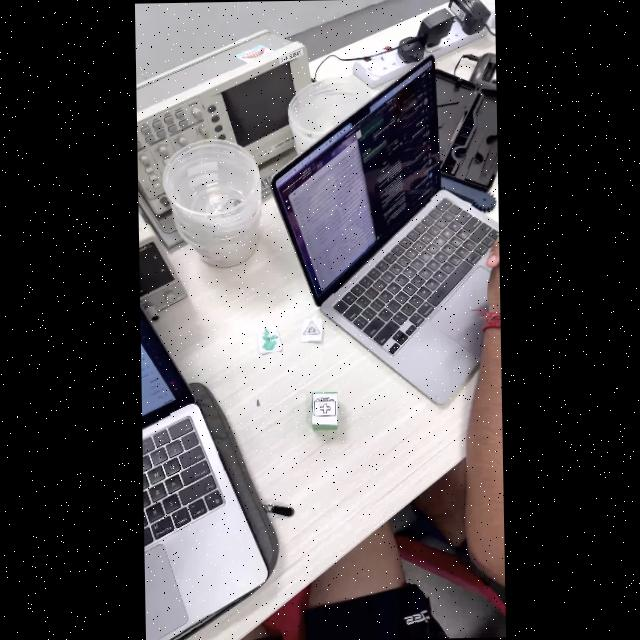Medkit: (312, 391, 338, 429)
